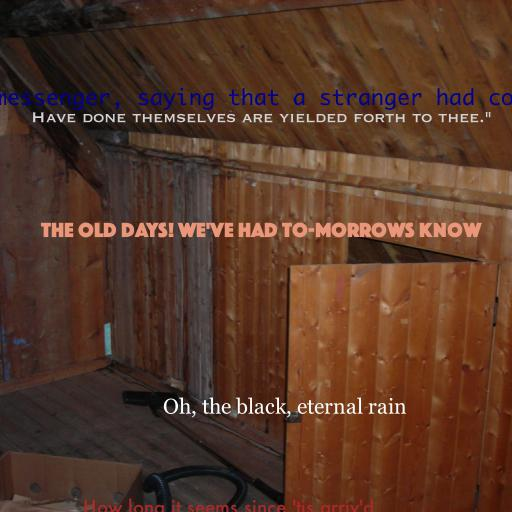Copperplate: (31, 112, 491, 123)
Futura: (82, 498, 374, 512)
Georgia: (163, 397, 407, 418)
Monaco: (0, 87, 512, 110)
Phosphate: (41, 222, 481, 238)
